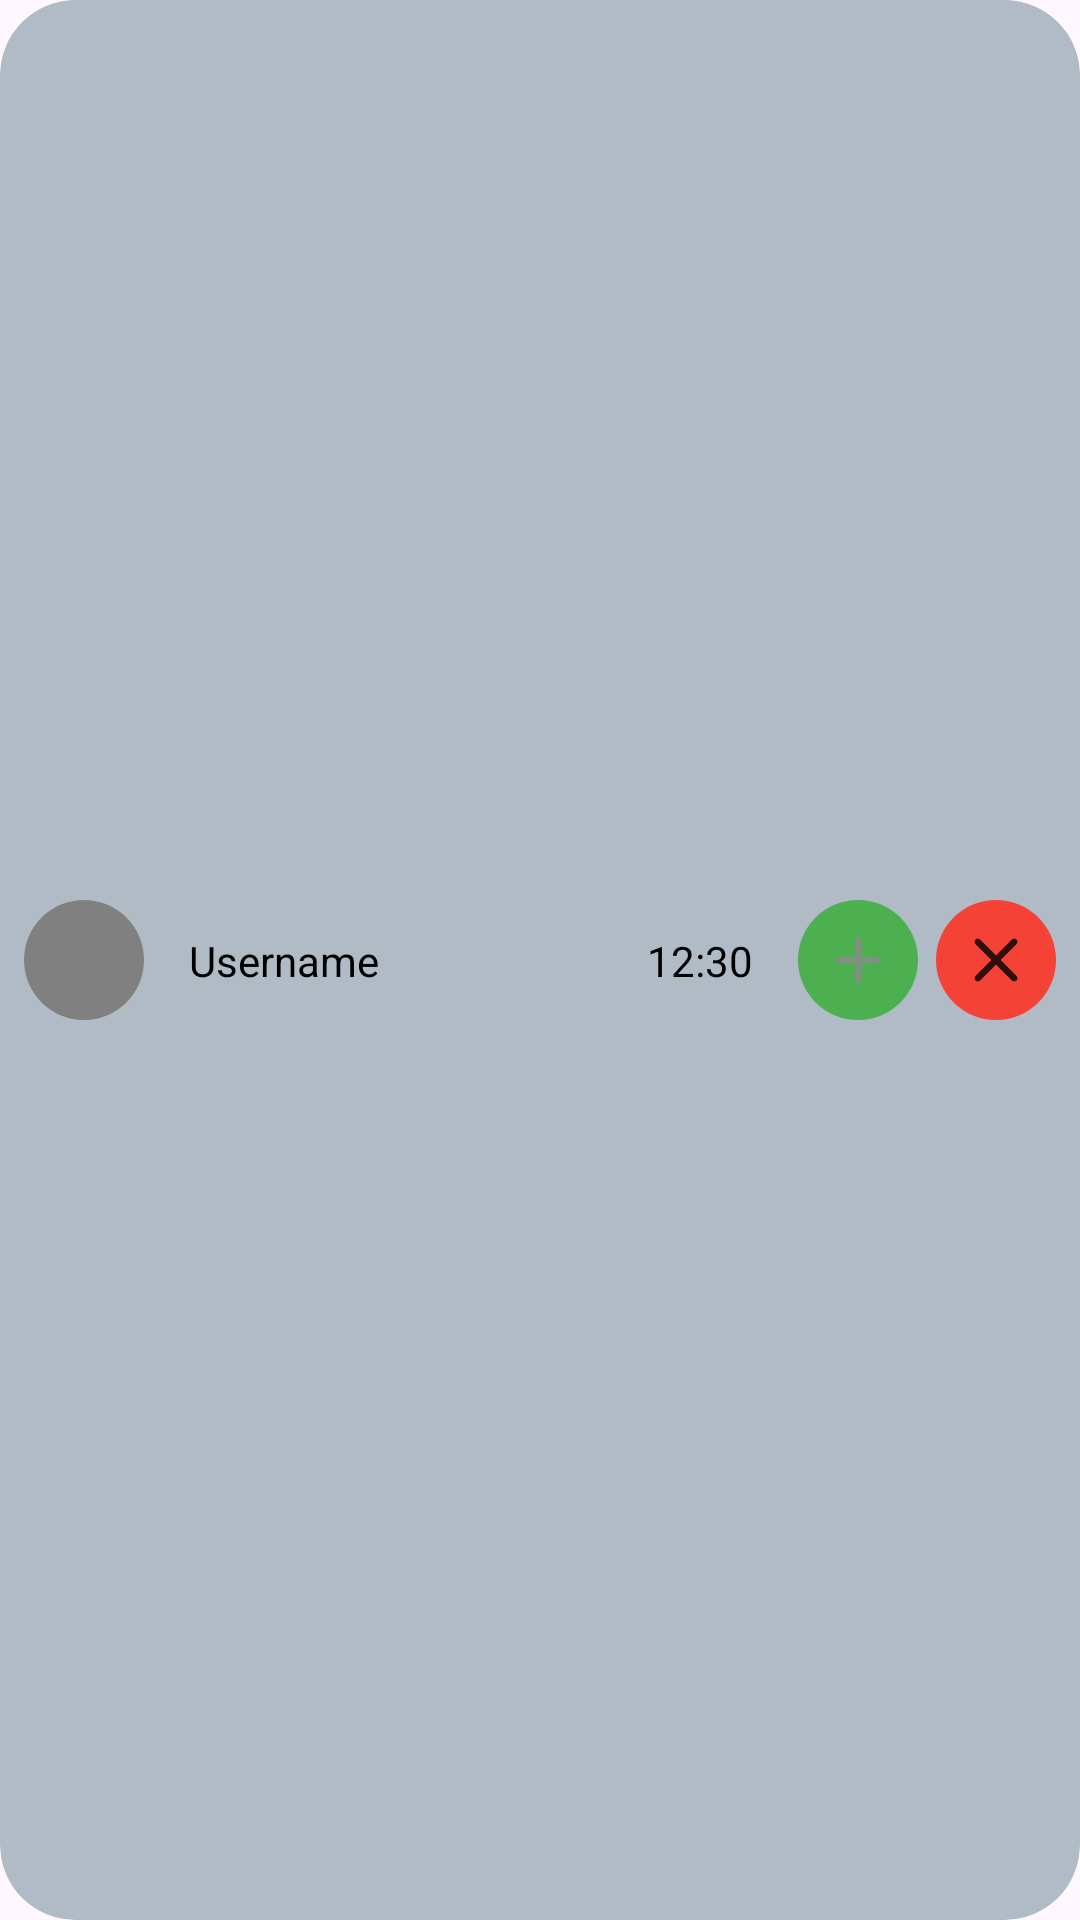

Screen size 1080 x 1920. Icon name, then its center in pixels as (x=x, y=y):
add: (x=858, y=960)
close: (x=996, y=960)
